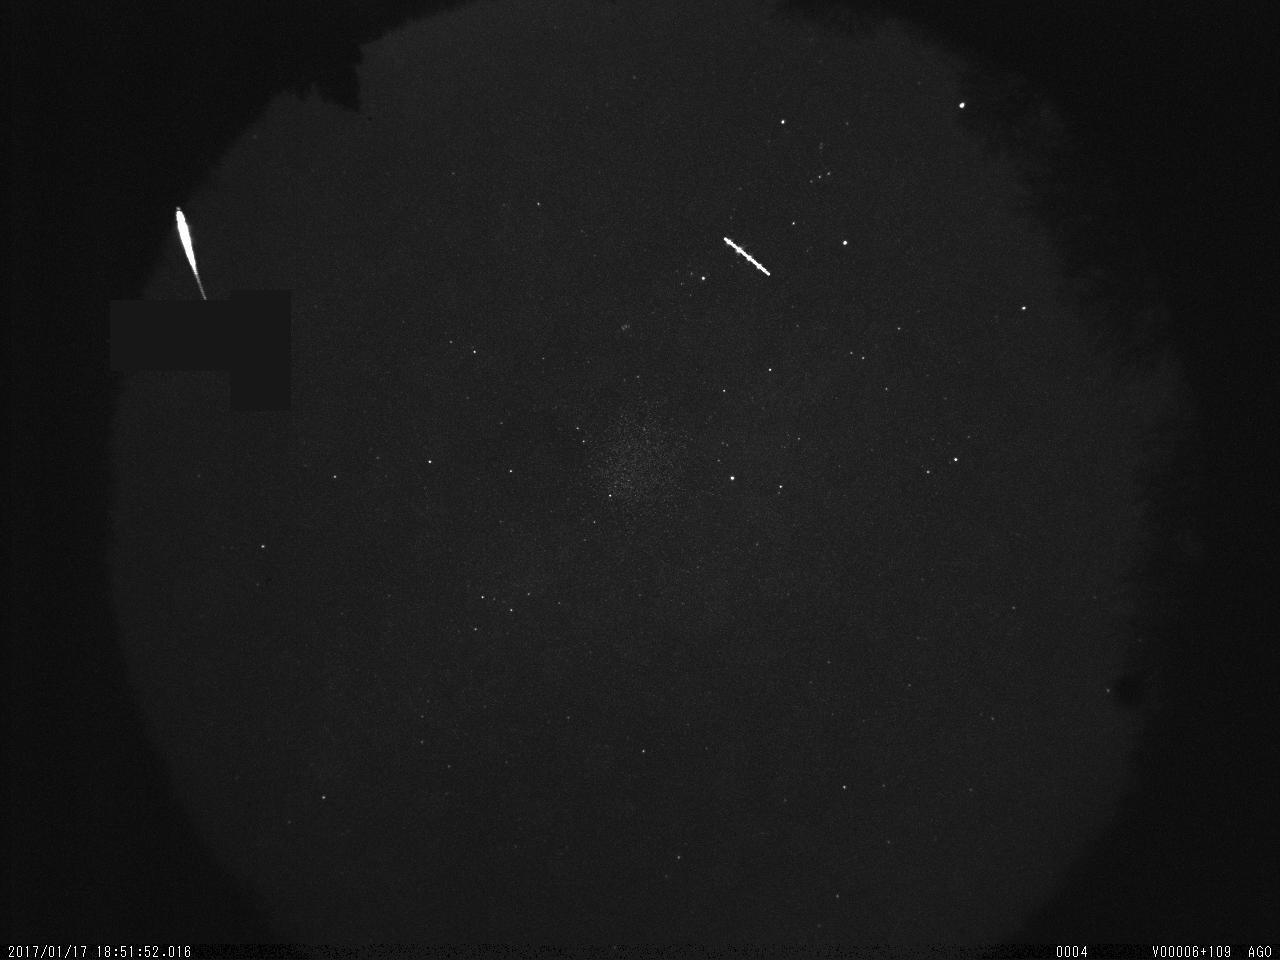meteor: (169, 202, 225, 322)
satelite: (714, 229, 786, 286)
